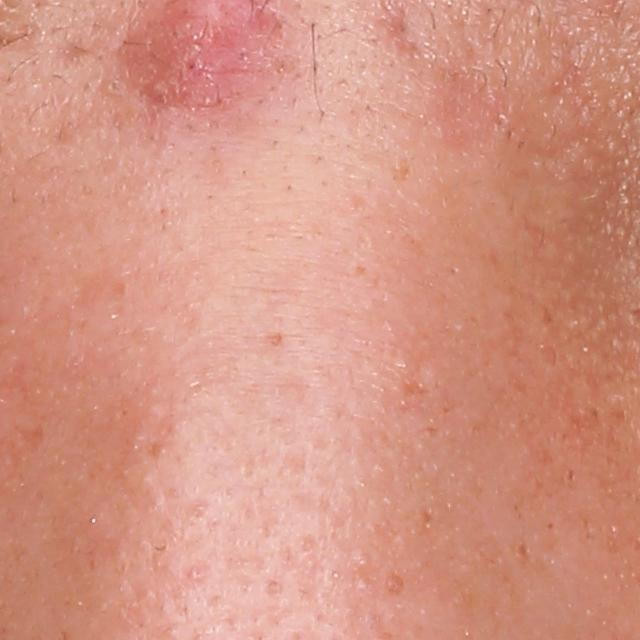melasma: (266, 327, 287, 353)
